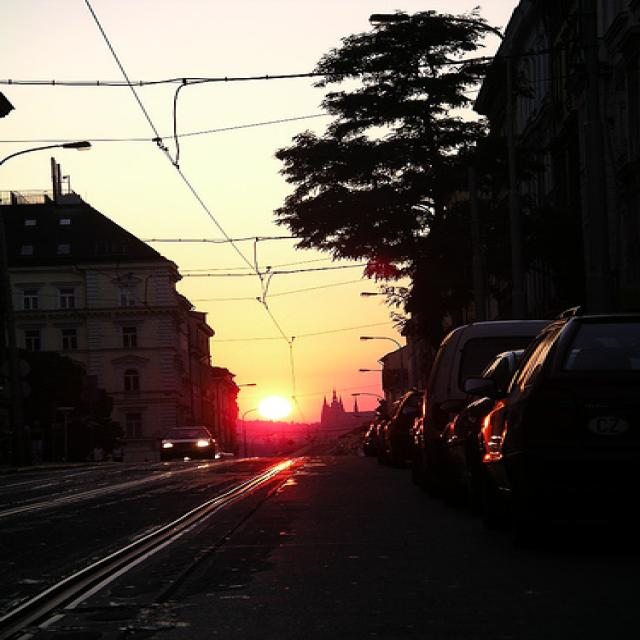Car: (323, 286, 640, 614), (172, 410, 242, 477)
